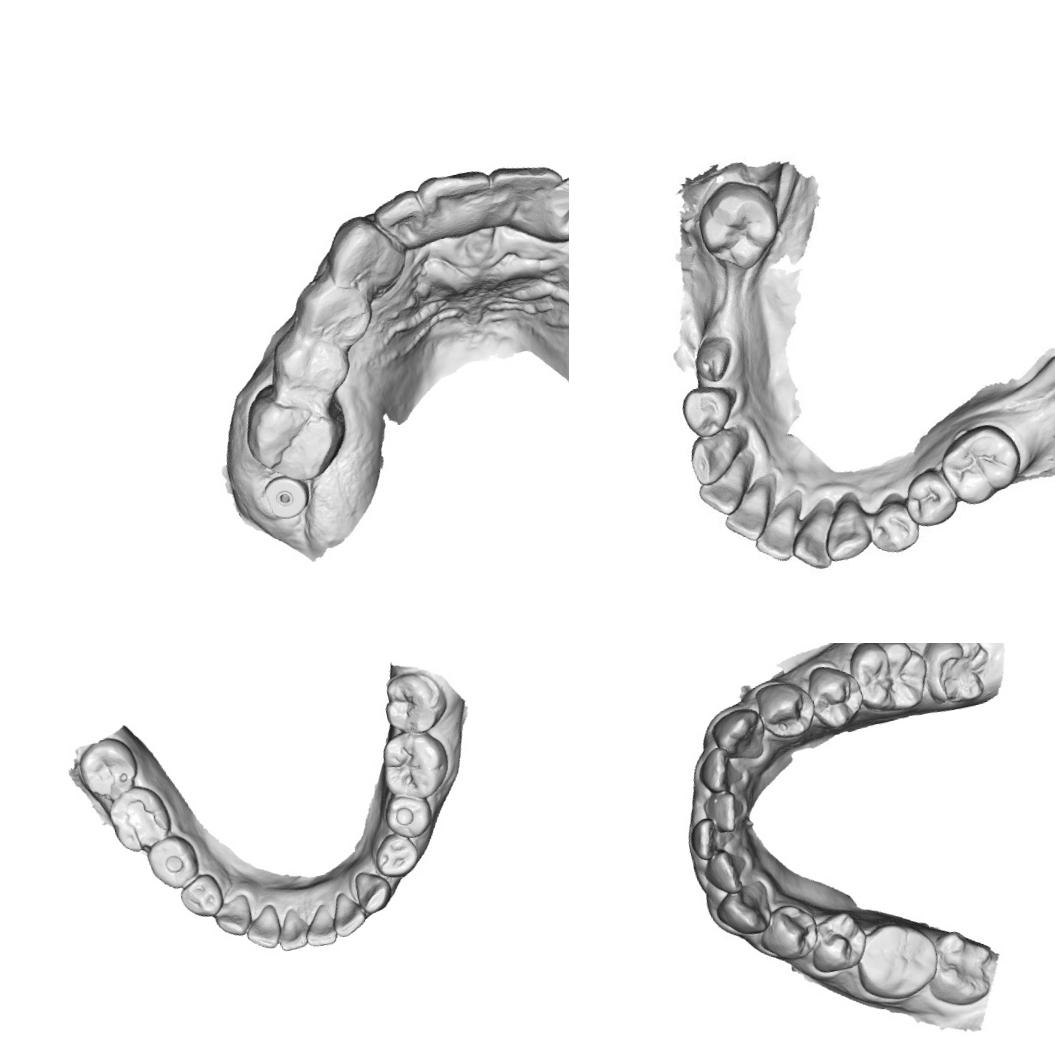canine: (318, 210, 409, 299), (814, 493, 873, 572), (710, 879, 777, 943), (707, 704, 770, 767), (685, 426, 753, 482), (351, 866, 396, 916), (210, 892, 256, 940)
implant: (259, 470, 314, 525)
incisor: (415, 164, 503, 250), (485, 153, 569, 232), (691, 454, 761, 522), (368, 186, 434, 258), (718, 482, 785, 548), (784, 508, 844, 577), (747, 498, 805, 569), (532, 169, 569, 249), (692, 742, 746, 796), (698, 846, 747, 899), (699, 786, 749, 836), (240, 902, 284, 954), (327, 888, 369, 939), (684, 814, 726, 864), (299, 902, 339, 950), (272, 906, 310, 954)
molar: (234, 373, 354, 492), (689, 172, 788, 278), (847, 913, 946, 1007), (936, 418, 1030, 512), (917, 923, 1002, 1013), (845, 643, 935, 718), (374, 724, 455, 805), (103, 779, 176, 857), (917, 643, 999, 709), (378, 666, 452, 739), (72, 732, 144, 807)
premolar: (265, 321, 352, 412), (287, 271, 375, 354), (801, 659, 870, 734), (802, 907, 872, 977), (752, 674, 821, 744), (754, 898, 824, 966), (674, 376, 748, 439), (900, 462, 962, 531), (866, 491, 927, 558), (144, 830, 202, 894), (380, 788, 436, 843), (370, 828, 422, 880), (176, 870, 226, 922)
